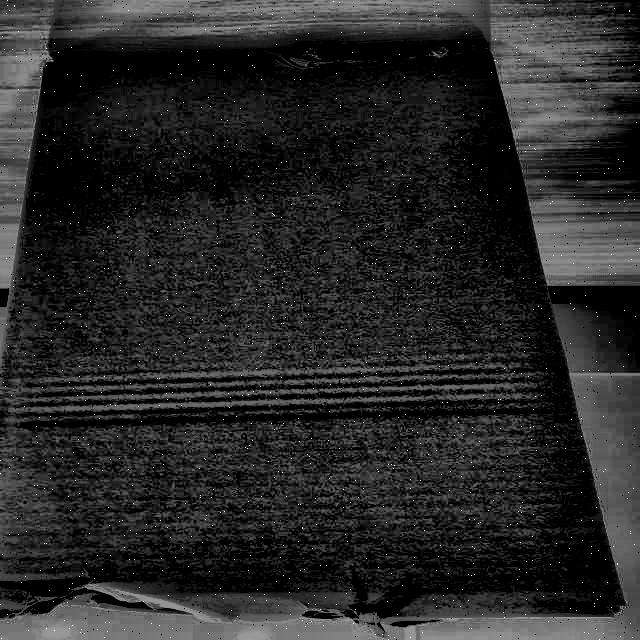box: (1, 25, 638, 632)
hole: (15, 576, 391, 625), (285, 44, 478, 62)
